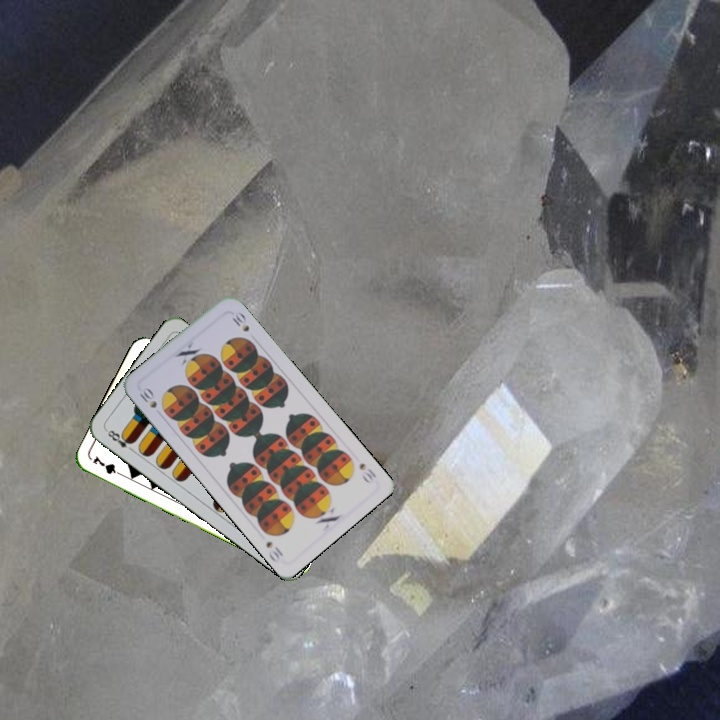E8: (102, 426, 137, 455)
G7: (89, 452, 127, 480)
S10: (134, 383, 160, 411), (355, 459, 379, 486)
